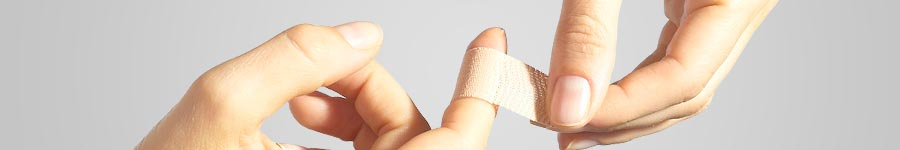finger: (560, 19, 765, 148), (562, 5, 763, 131), (556, 3, 731, 129), (249, 13, 386, 138), (291, 92, 376, 149)
